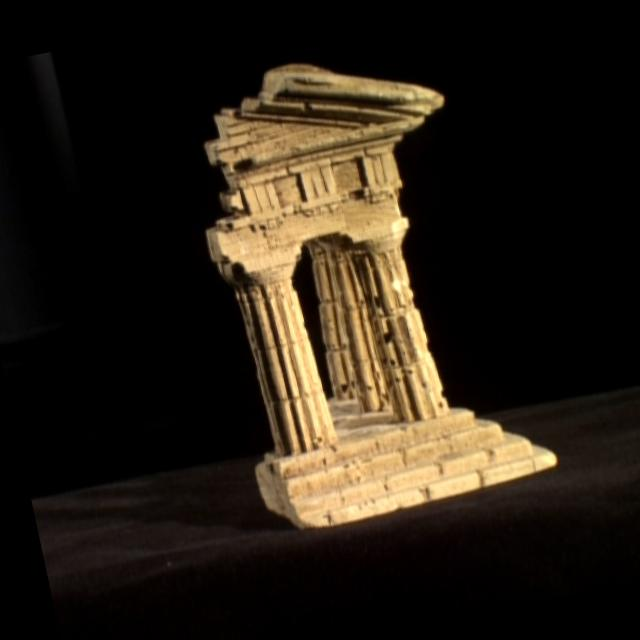Instance-Segmentation: (206, 64, 556, 526)
